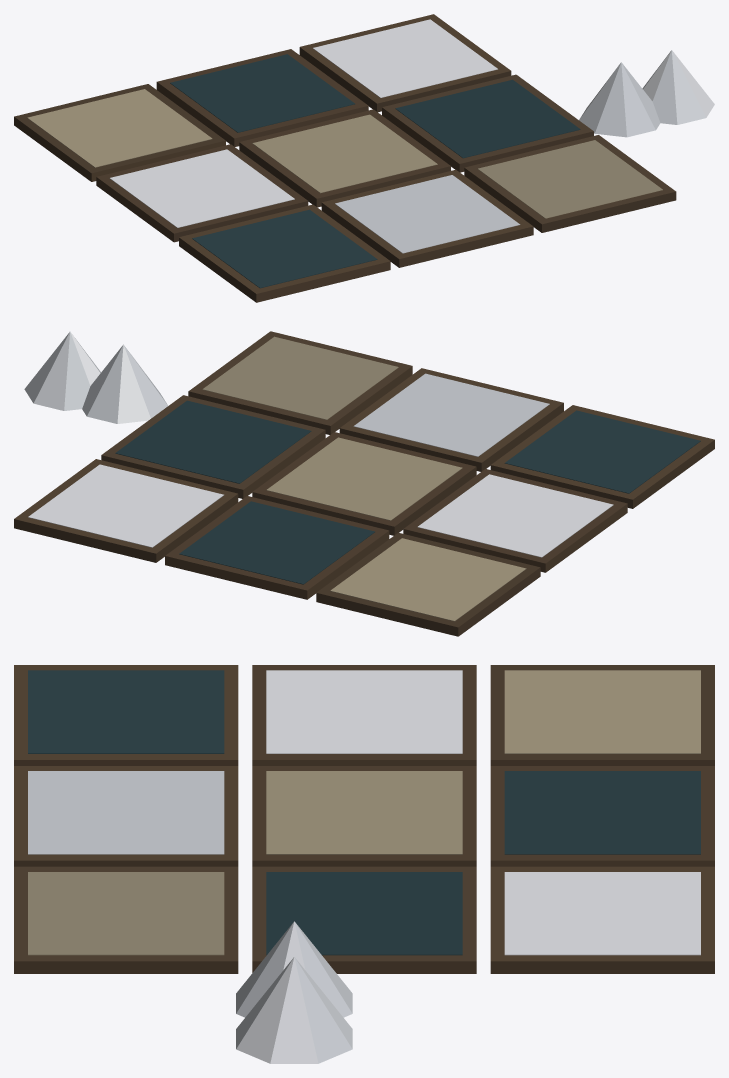
Rendered from yard_saltpans.glb.
3 views of the same model, one above another, from view 1: azimuth 30°, elevation 25°; view 2: azimuth 150°, elevation 25°; view 3: azimuth 270°, elevation 25° (orthographic). The views are drawn at different scales.
Parts seen in each view (by area): view 1: yard_saltpans; view 2: yard_saltpans; view 3: yard_saltpans.
Part boxes in pixels (left/top/right/bottom): yard_saltpans: left=14, top=14, right=714, bottom=302; yard_saltpans: left=14, top=331, right=714, bottom=636; yard_saltpans: left=14, top=665, right=714, bottom=1063.
Size of the model in its own units: 13.03 by 1.3 by 10.
1 material, 1 textured.
